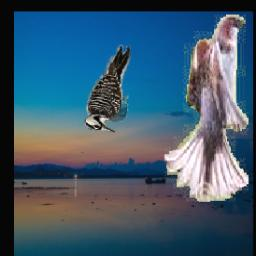Sparrow: (164, 15, 249, 202)
Woodpecker: (84, 45, 131, 132)
